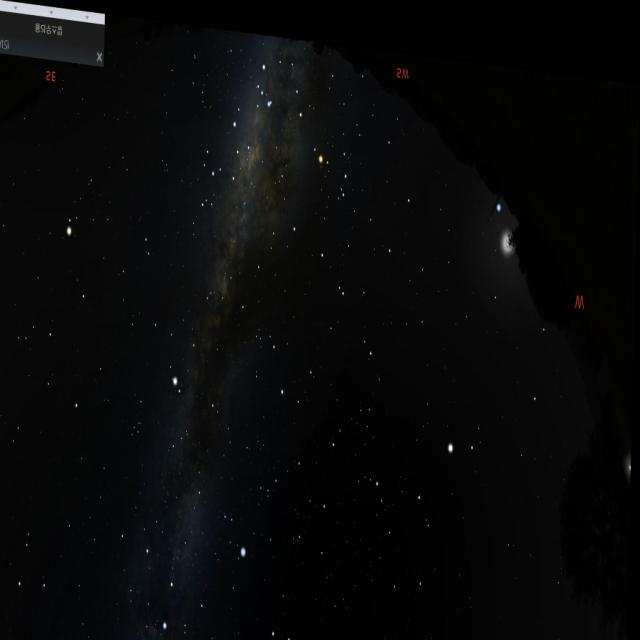aquila: (146, 259, 234, 432)
bootes: (384, 386, 489, 608)
cygnus: (139, 457, 219, 633)
lyra: (222, 492, 258, 552)
moon: (482, 187, 528, 262)
sagittarius: (181, 115, 242, 229)
scorpius: (250, 66, 359, 207)
